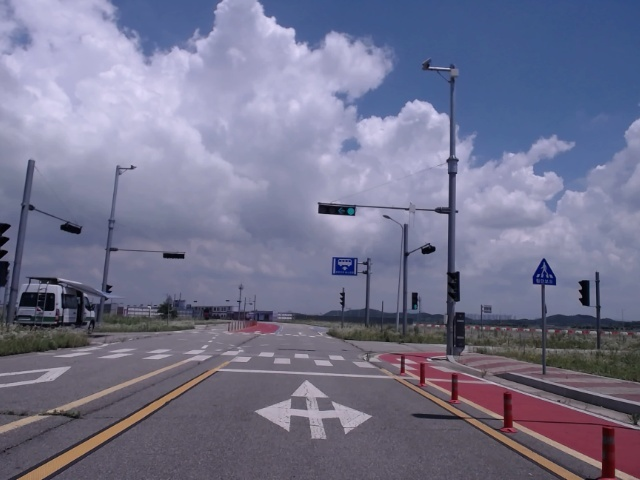all_green_4: (317, 205, 356, 217)
